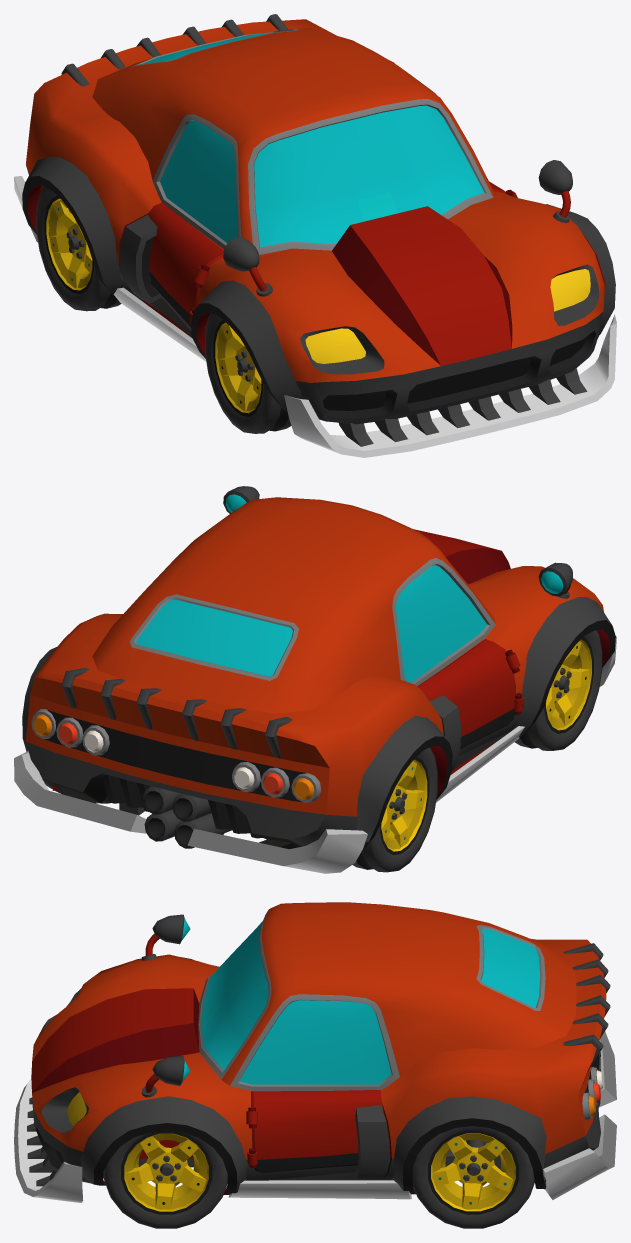
File: VEH15-B.fbx
3 renders of one model, top to bottom at view 1: azimuth 30°, elevation 25°; view 2: azimuth 150°, elevation 25°; view 3: azimuth 270°, elevation 25°, orthographic. The views are drawn at different scales.
Parts seen in each view (by area): view 1: VEH15_B, V15B_Wheel_FR, V15B_Wheel_BR; view 2: VEH15_B, V15B_Wheel_BR, V15B_Wheel_FR; view 3: VEH15_B, V15B_Wheel_BL, V15B_Wheel_FL.
Part boxes in pixels (x1=…): VEH15_B: x1=14, y1=14, x2=616, y2=457; V15B_Wheel_FR: x1=205, y1=312, x2=291, y2=433; V15B_Wheel_BR: x1=36, y1=186, x2=121, y2=311; VEH15_B: x1=14, y1=486, x2=616, y2=873; V15B_Wheel_BR: x1=352, y1=747, x2=437, y2=872; V15B_Wheel_FR: x1=514, y1=630, x2=602, y2=750; VEH15_B: x1=14, y1=902, x2=616, y2=1202; V15B_Wheel_BL: x1=412, y1=1126, x2=534, y2=1228; V15B_Wheel_FL: x1=103, y1=1130, x2=227, y2=1228.
Bounding box in the file's own units: 278 × 174 × 420.
1 material, 1 textured.
